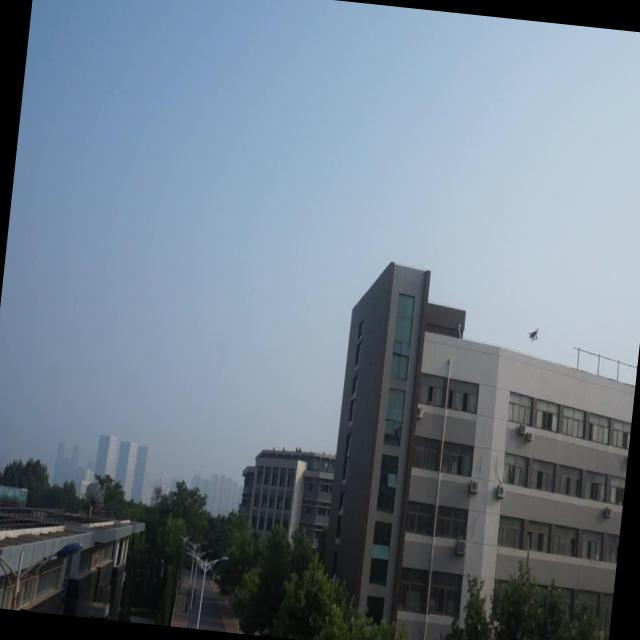drone: (524, 323, 541, 347)
